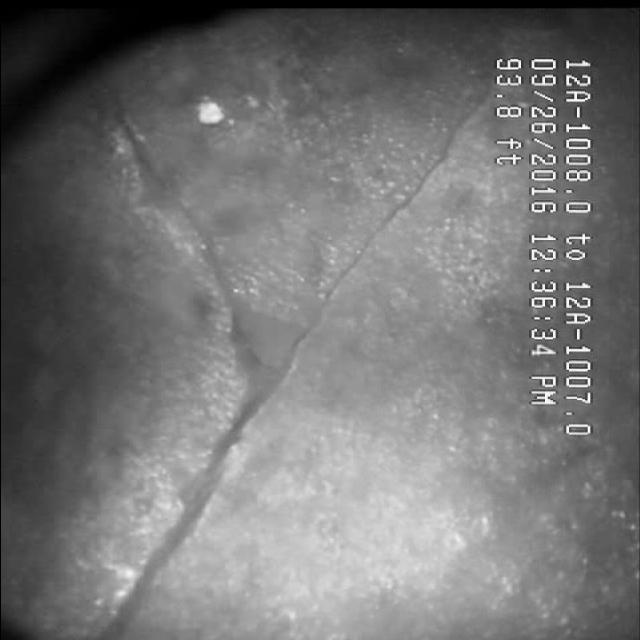Crack: (94, 142, 474, 588)
